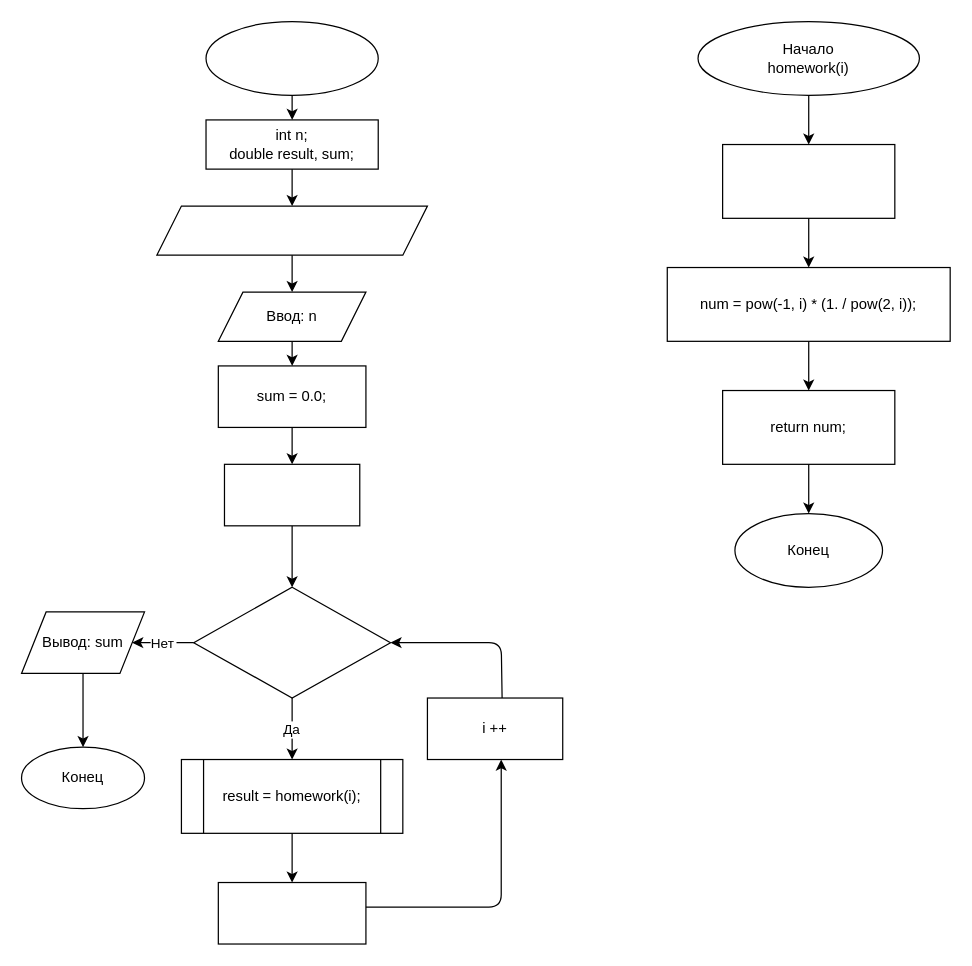
This 972x966 diagram has some shape labels left out. The shapes that lost their labels are listed below. From the top down, each one's box as (x1, y1, x2, y2) in pixels, then its label:
(205, 20, 378, 95): Начало main()
(721, 143, 895, 218): double num;
(156, 205, 427, 255): Вывод: "Введите целое число n..."
(223, 463, 360, 526): int i = 0;
(192, 586, 391, 698): for (;i <= n;)
(217, 881, 366, 944): sum += result;
